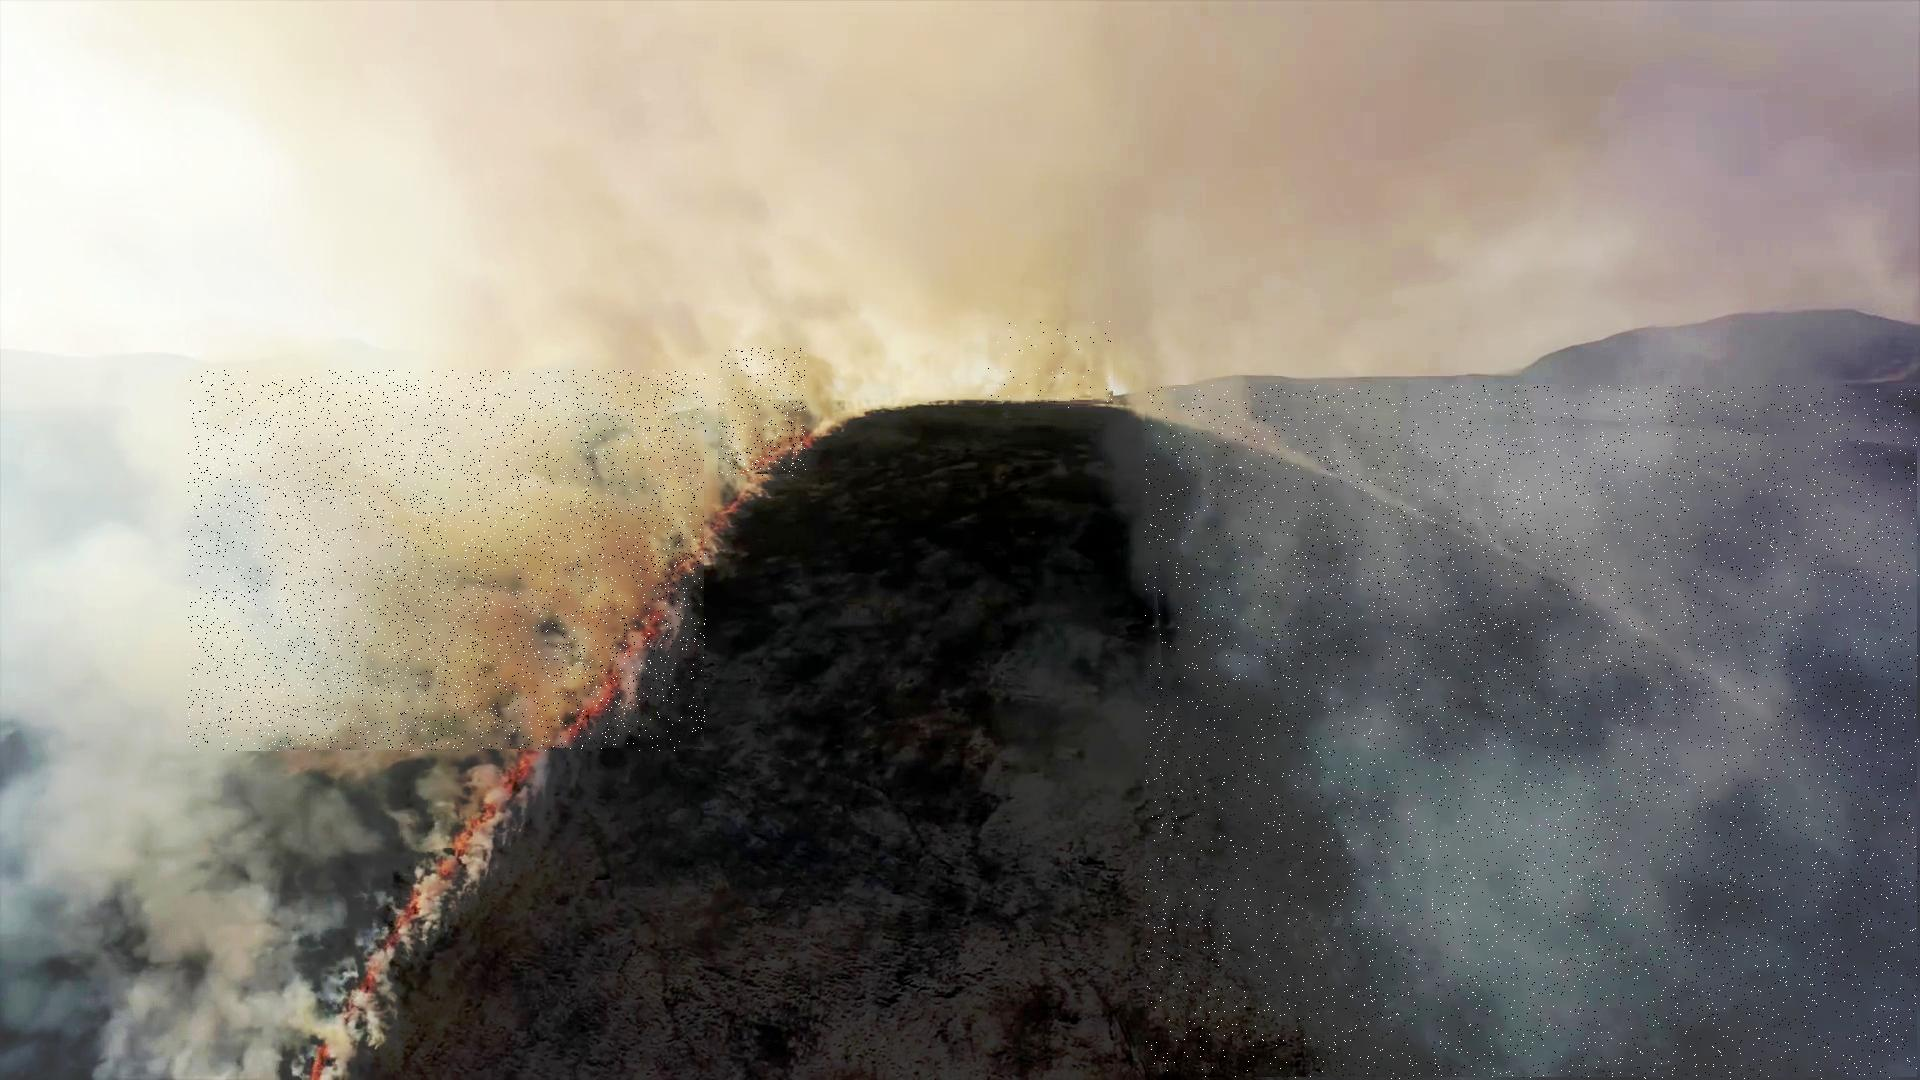smoke: (1146, 386, 1920, 1080), (189, 371, 707, 752), (719, 349, 807, 477), (989, 320, 1116, 409)
